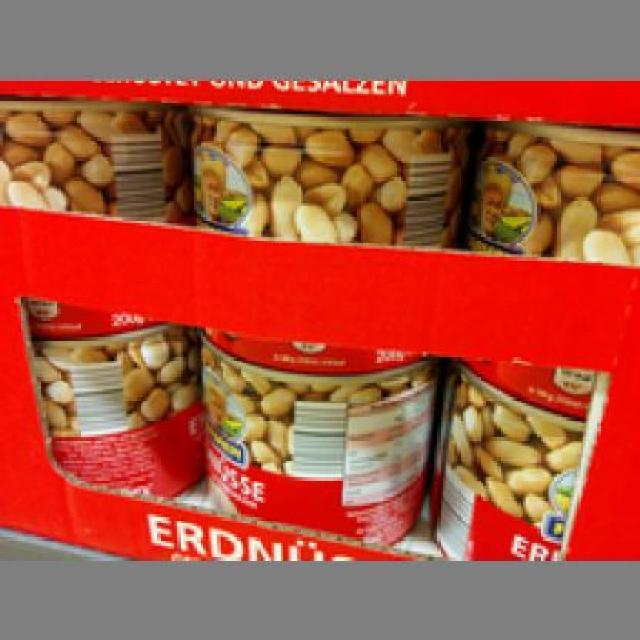Nuts: (192, 332, 434, 552), (183, 106, 460, 243), (31, 323, 202, 494), (425, 368, 578, 558), (462, 120, 638, 257), (0, 94, 183, 220)
